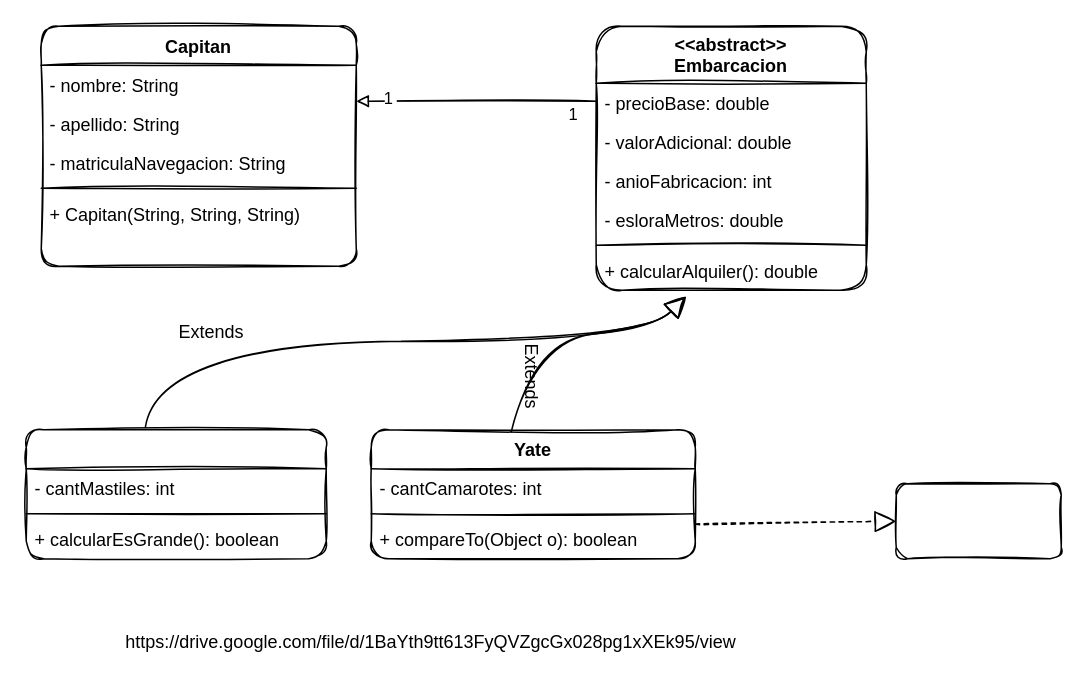
The diagram is 1088 pixels wide and 681 high, and some of its shapes have lost their labels. Each missing label, with the box of its shape:
Velero: (25, 428, 326, 559)
«interface» Comparable: (895, 482, 1061, 559)
